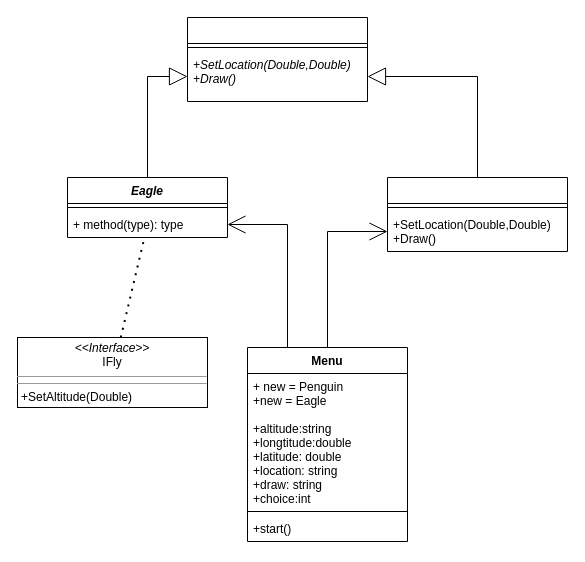
Image size: 585x562. Some labels were removed from this diagram. The box of each missing label's shape, as (x1, y1, x2, y2) in pixels:
Bird: (186, 16, 368, 102)
Penguin: (386, 176, 568, 252)
